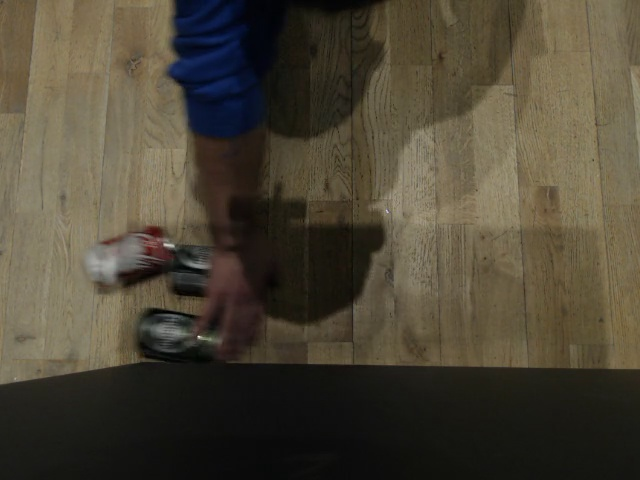cola: (77, 225, 175, 291)
